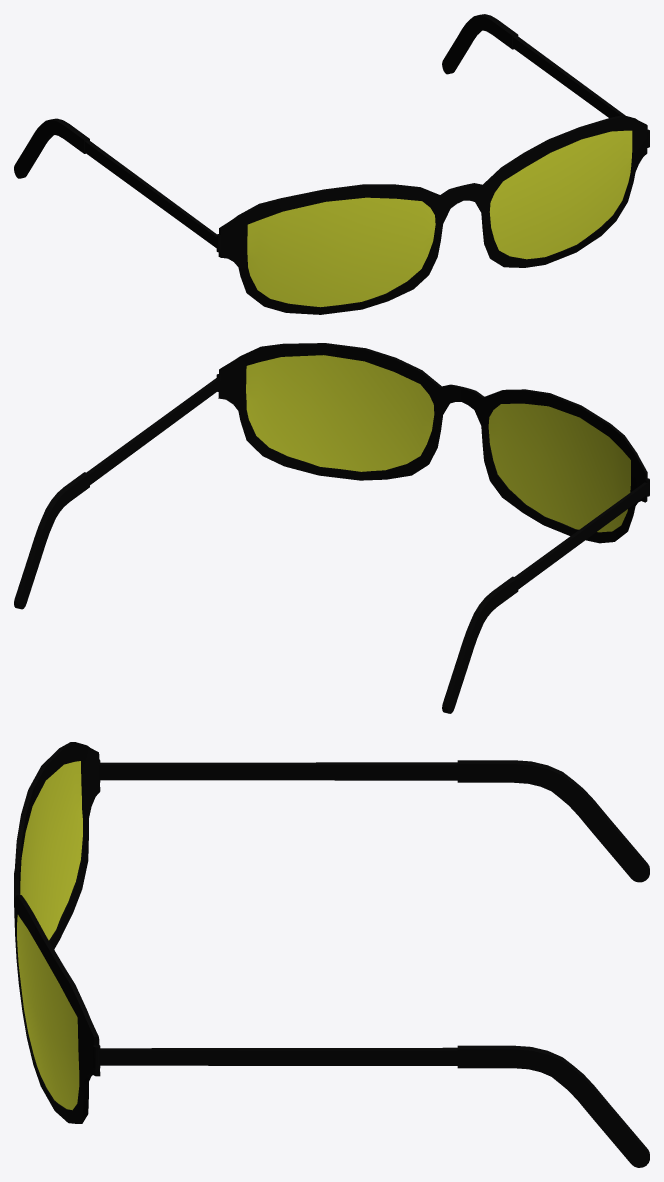
File: glasses-13.glb
3 renders of one model, top to bottom at view 1: azimuth 30°, elevation 25°; view 2: azimuth 150°, elevation 25°; view 3: azimuth 270°, elevation 25°, orthographic. The views are drawn at different scales.
Visible parts, largest first — view 1: glasses8.001; view 2: glasses8.001; view 3: glasses8.001.
Boxes of the visible parts, <box> form: glasses8.001: <box>14,14,649,314</box>; glasses8.001: <box>14,343,649,713</box>; glasses8.001: <box>14,742,649,1167</box>.
Size of the model in its own units: 1.99 by 0.5597 by 1.85.
